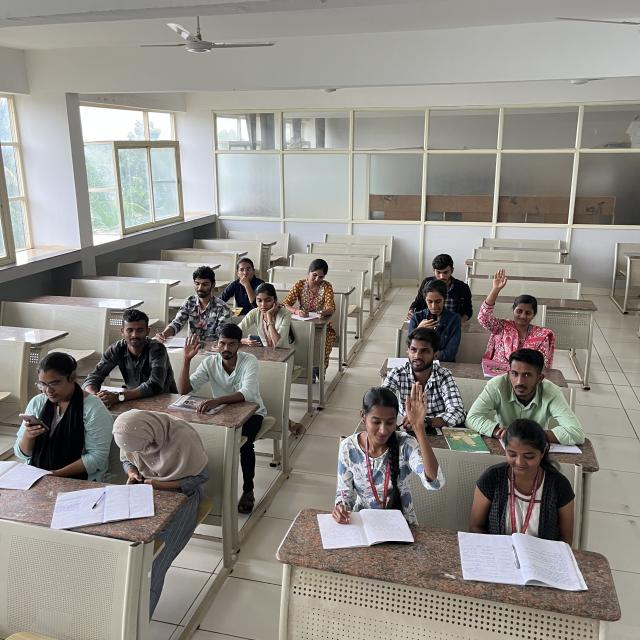Hand Rising: (344, 381, 445, 494), (478, 268, 551, 355), (177, 323, 254, 402)
Reading: (470, 417, 574, 545)
Using Phone: (18, 351, 97, 465), (113, 410, 204, 487), (406, 281, 461, 346), (242, 282, 289, 346)
Writing: (153, 264, 234, 344), (402, 252, 472, 322), (283, 258, 336, 326)
